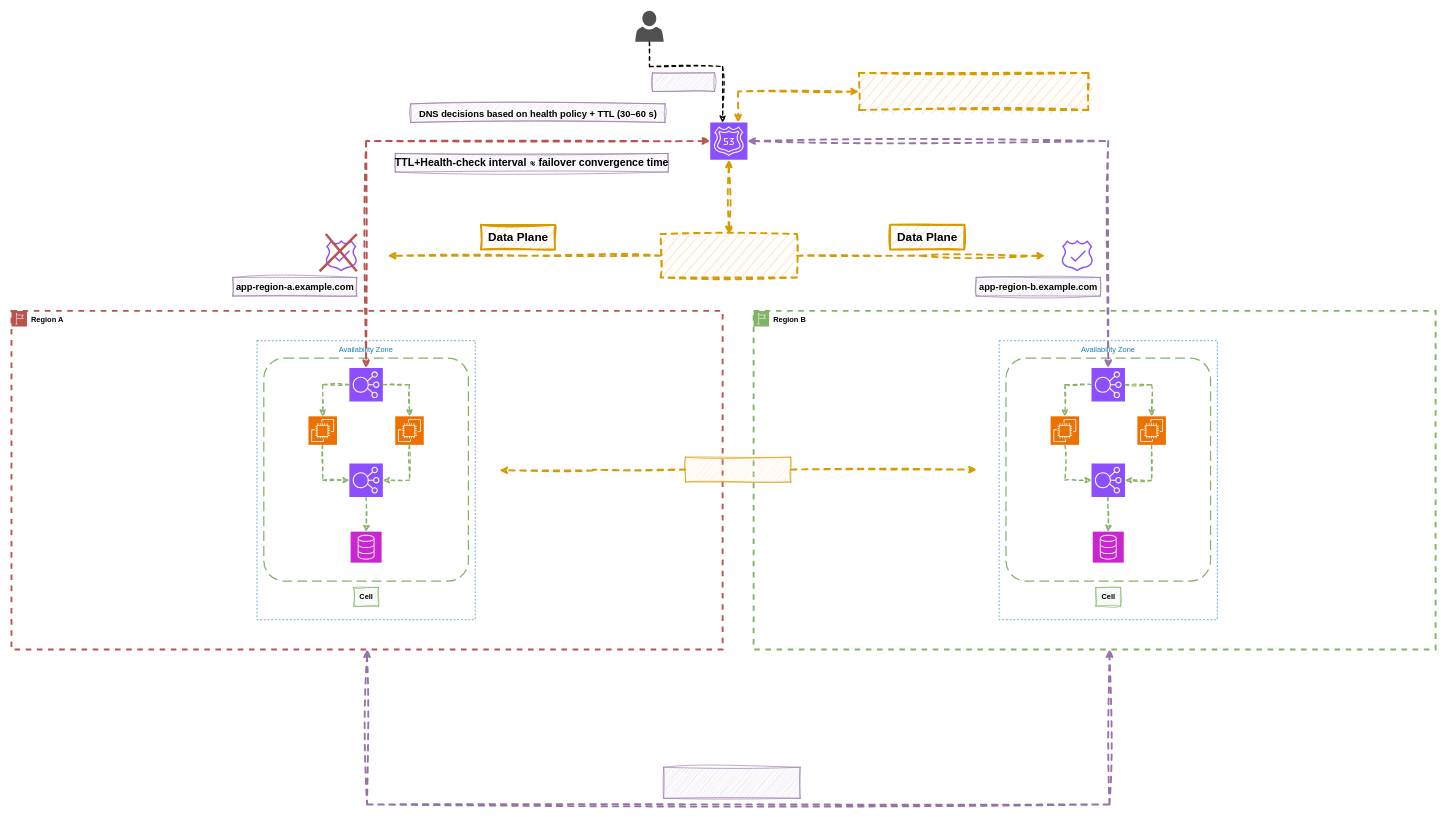
The diagram is 1447 pixels wide and 822 high, and some of its shapes have lost their labels. The shapes that lost their labels are listed below. From the top down, each one's centre as x and y in pixels, then its label:
At pixel 683 81: "DNS Query".
At pixel 973 91: "Route 53 Control Plane (us-easty-1) Configuration and Policy Management".
At pixel 728 255: "Global Data Plane Edge Authoritative Resolvers Health-Checks".
At pixel 738 469: "Fault Domains".
At pixel 731 782: "Asynchronous Replication DR/Data Sync".
